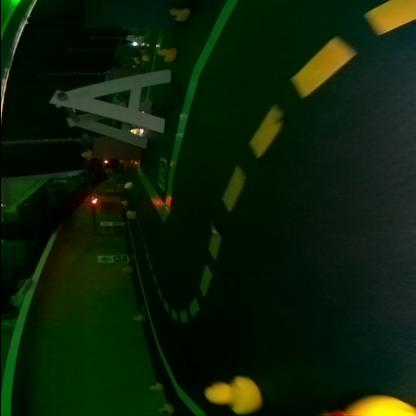Duckie: (320, 394, 410, 413), (203, 376, 254, 409), (168, 8, 188, 22), (155, 48, 174, 62), (156, 402, 172, 412), (79, 149, 91, 160), (124, 210, 132, 218), (148, 383, 160, 388), (119, 200, 127, 206), (132, 314, 139, 320), (122, 182, 130, 187), (122, 265, 127, 271)
Intersection sign: (97, 256, 110, 262)
QR code: (156, 158, 165, 190), (111, 254, 127, 260), (111, 226, 121, 233)
